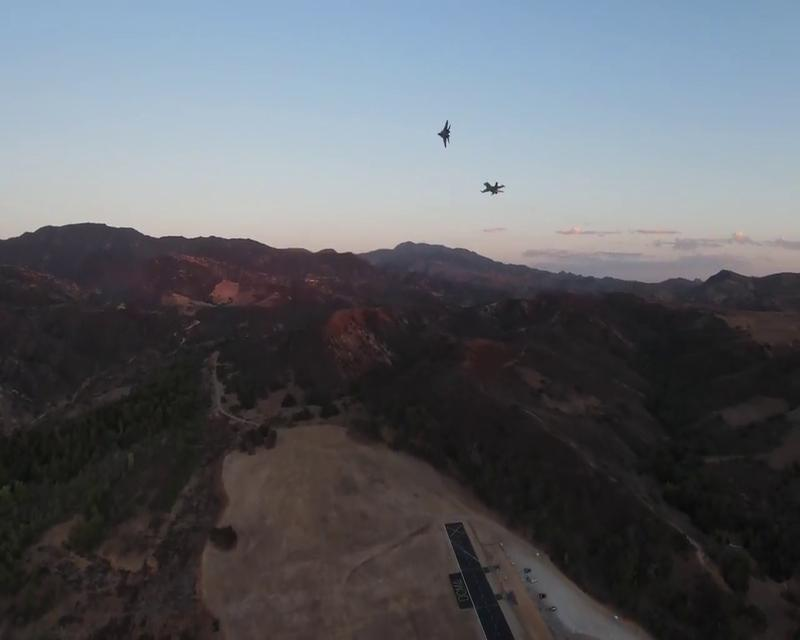UAV: (437, 120, 452, 148), (480, 182, 506, 196)
